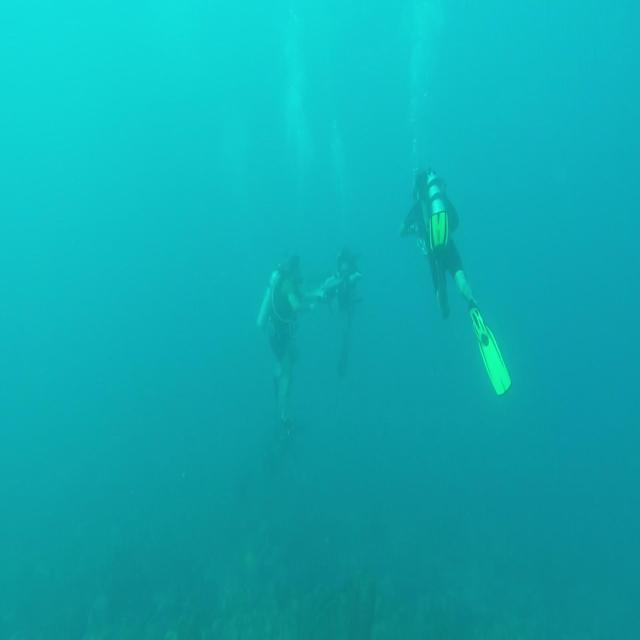human: (256, 251, 326, 434), (400, 165, 480, 321), (322, 245, 363, 377)
